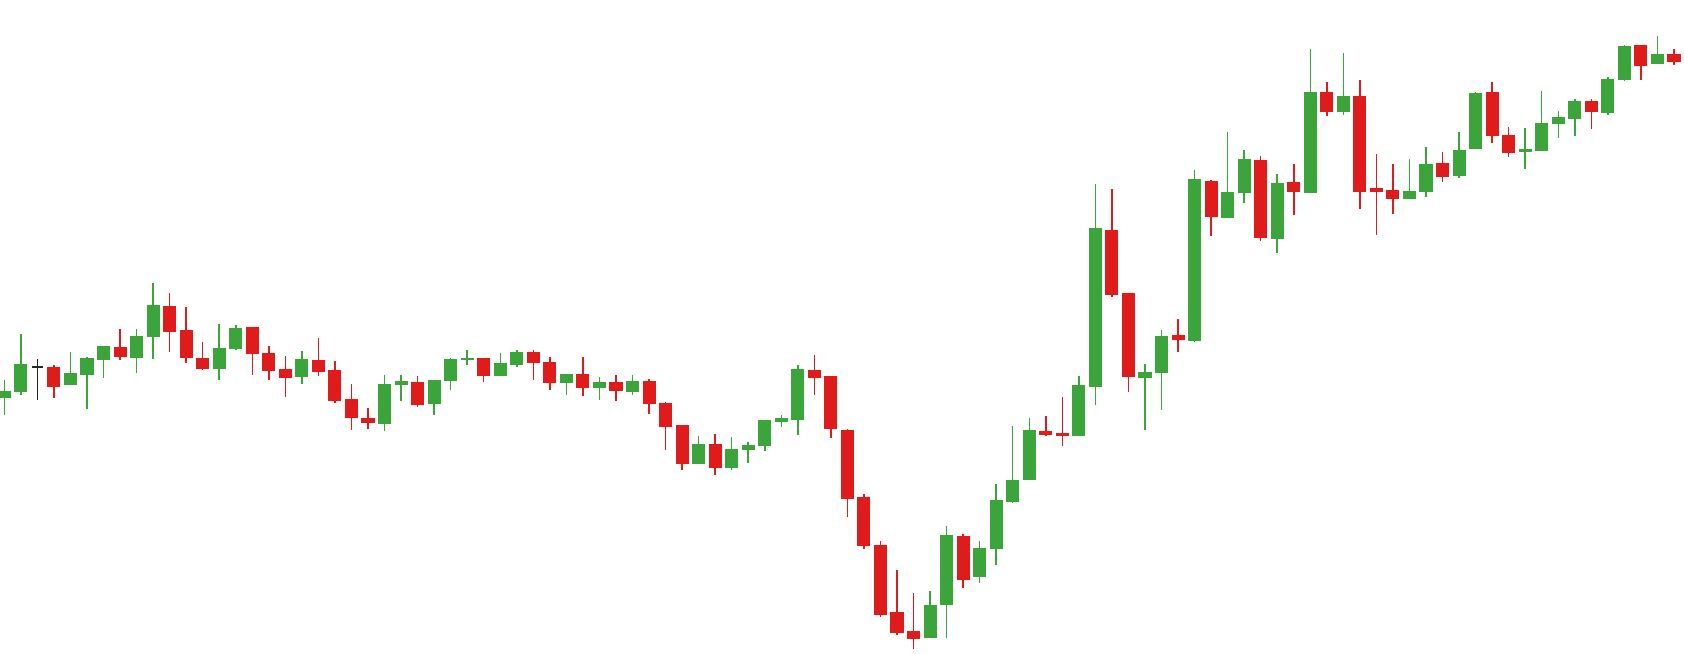sell: (626, 357, 819, 416)
